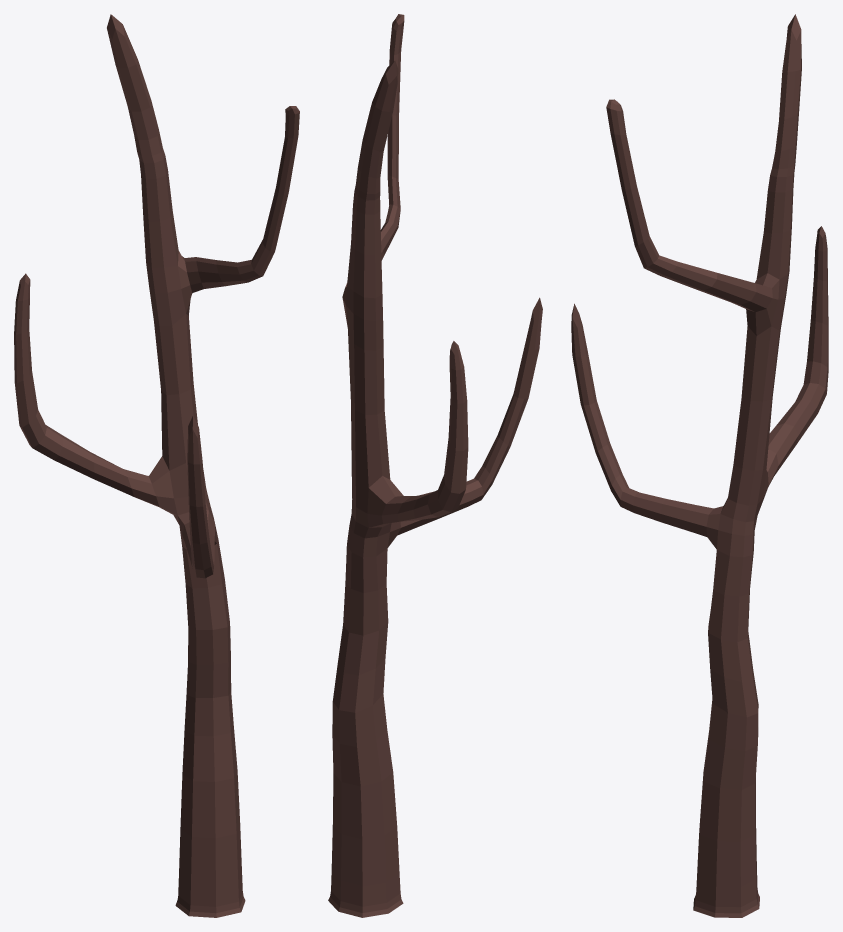
File: CommonTree_Dead_3.gltf
The picture shows the model from 3 angles, left to right: view 1: azimuth 30°, elevation 25°; view 2: azimuth 150°, elevation 25°; view 3: azimuth 270°, elevation 25°; orthographic projection. The views are drawn at different scales.
Visible parts, largest first — view 1: CommonTree_Dead_3; view 2: CommonTree_Dead_3; view 3: CommonTree_Dead_3.
Part boxes in pixels (box(x1,y1,x2,y2)): CommonTree_Dead_3: box(14, 14, 299, 917); CommonTree_Dead_3: box(328, 14, 542, 917); CommonTree_Dead_3: box(571, 14, 828, 917).
Bounding box in the file's own units: 0.6352 × 3 × 0.8125.
